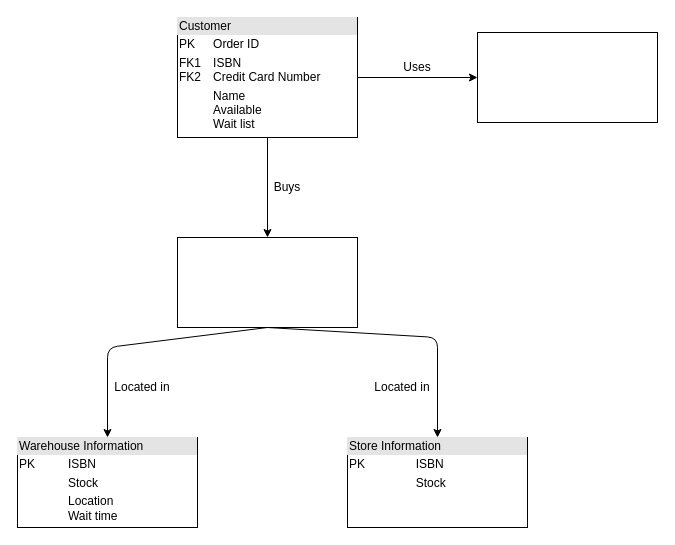
Image size: 675x545. Some labels were removed from this diagram. Here are the shapes that lost their labels. From the top down, the centre of each, then its label:
At (567,77): "Credit Card PK Credit Card Number Name Expiration Date Type".
At (267,282): "Book Information PK ISBN Title Author Publisher".
